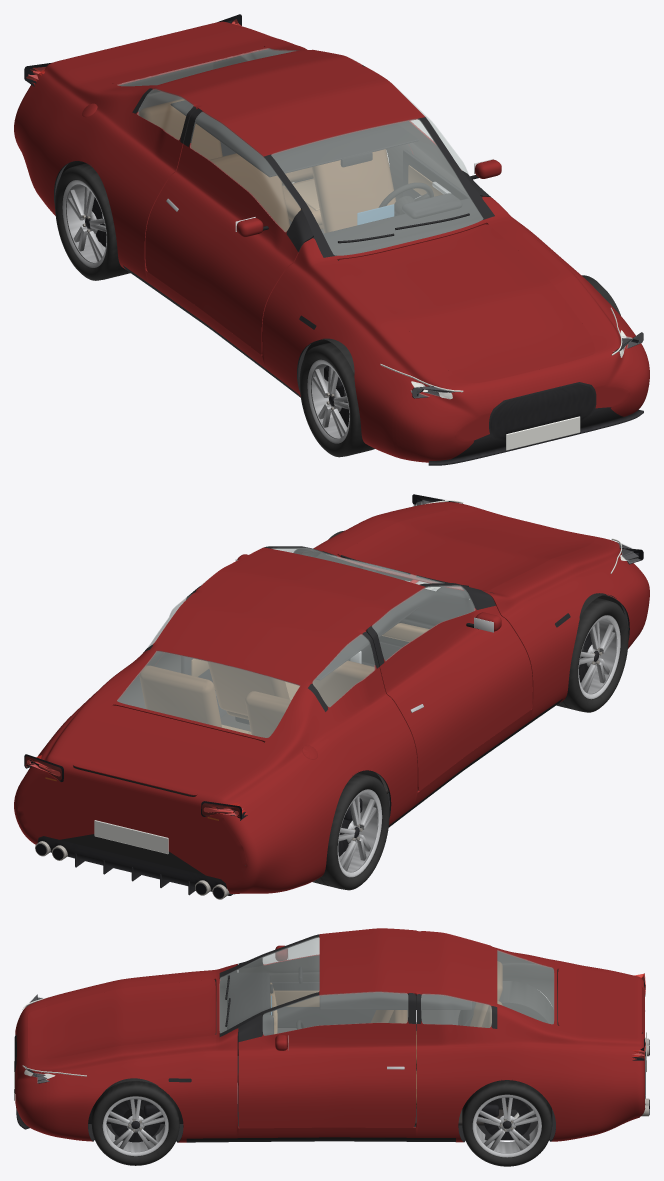
File: granturismo.glb
3 renders of one model, top to bottom at view 1: azimuth 30°, elevation 25°; view 2: azimuth 150°, elevation 25°; view 3: azimuth 270°, elevation 25°, orthographic. The views are drawn at different scales.
Visible parts, largest first — view 1: Body, Hood, Door_FR, Windshield, Tailgate, Door_FR_Glass, Headliner, Seat_FL_Back, Dash_Top, Grille0_Mesh, Wheel_FR_Tire, Wheel_RR_Tire (+14 smaller); view 2: Body, Door_FR, Hood, Tailgate, RearScreen, Door_FR_Glass, Seat_RL_Back, Wheel_RR_Tire, Wheel_FR_Tire, QuarterGlass, Diffuser, Seat_FL_Back (+10 smaller); view 3: Body, Door_FL, Hood, Windshield, Tailgate, Door_FL_Glass, RearScreen, Wheel_FL_Tire, Wheel_RL_Tire, Headliner, Dash_Top, Door_FR_Card (+12 smaller).
Boxes of the visible parts, bbox=[...] form: Body: bbox=[14, 21, 649, 462]; Hood: bbox=[338, 224, 595, 383]; Door_FR: bbox=[145, 108, 313, 354]; Windshield: bbox=[271, 119, 483, 255]; Tailgate: bbox=[74, 26, 263, 83]; Door_FR_Glass: bbox=[190, 112, 300, 231]; Headliner: bbox=[170, 100, 418, 176]; Seat_FL_Back: bbox=[311, 149, 395, 232]; Dash_Top: bbox=[311, 198, 486, 260]; Grille0_Mesh: bbox=[491, 385, 594, 439]; Wheel_FR_Tire: bbox=[299, 342, 374, 457]; Wheel_RR_Tire: bbox=[55, 163, 130, 280]; Body: bbox=[14, 502, 649, 893]; Door_FR: bbox=[366, 585, 532, 790]; Hood: bbox=[338, 507, 595, 590]; Tailgate: bbox=[73, 705, 263, 795]; RearScreen: bbox=[117, 651, 299, 737]; Door_FR_Glass: bbox=[372, 585, 475, 660]; Seat_RL_Back: bbox=[139, 665, 221, 727]; Wheel_RR_Tire: bbox=[312, 772, 389, 890]; Wheel_FR_Tire: bbox=[556, 598, 628, 712]; QuarterGlass: bbox=[147, 594, 375, 706]; Diffuser: bbox=[38, 836, 234, 894]; Seat_FL_Back: bbox=[208, 662, 289, 715]; Body: bbox=[15, 928, 645, 1142]; Door_FL: bbox=[238, 993, 415, 1128]; Hood: bbox=[28, 979, 215, 1059]; Windshield: bbox=[219, 937, 319, 1032]; Tailgate: bbox=[558, 969, 642, 1033]; Door_FL_Glass: bbox=[263, 991, 407, 1035]; RearScreen: bbox=[497, 950, 553, 1023]; Wheel_FL_Tire: bbox=[91, 1081, 179, 1165]; Wheel_RL_Tire: bbox=[462, 1080, 552, 1166]; Headliner: bbox=[319, 992, 471, 1009]; Dash_Top: bbox=[227, 972, 270, 1055]; Door_FR_Card: bbox=[270, 982, 375, 1027].
Bounding box in the file's own units: 1.96 × 1.37 × 5.01.
